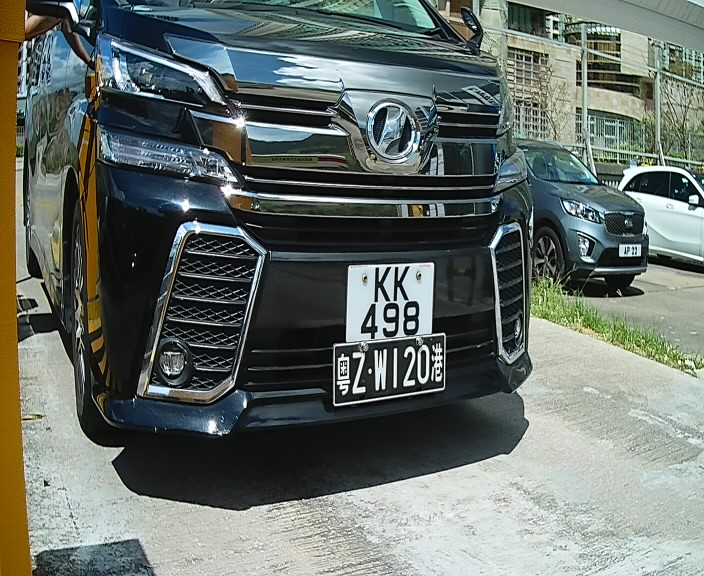Car: (15, 2, 565, 482)
License Plate: (339, 254, 443, 352)
